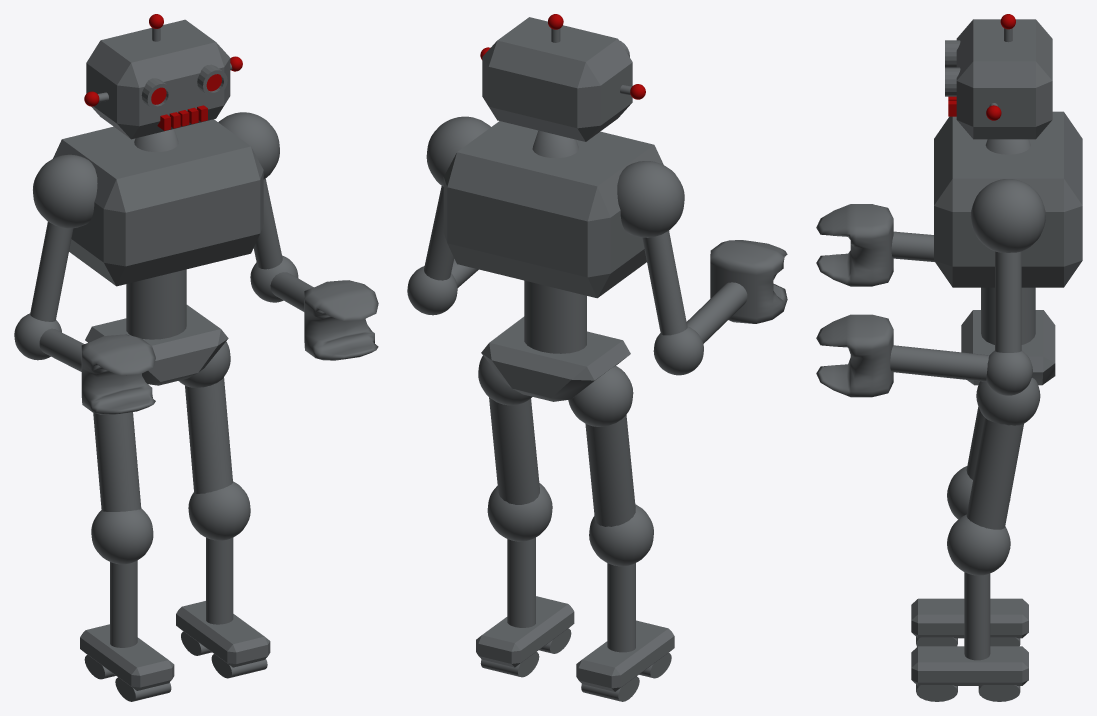
The model's file is Robot.fbx.
The picture shows the model from 3 angles, left to right: view 1: azimuth 30°, elevation 25°; view 2: azimuth 150°, elevation 25°; view 3: azimuth 270°, elevation 25°; orthographic projection. The views are drawn at different scales.
Visible parts, largest first — view 1: pCube7, pCube1, pCube8, pCylinder6, pCube10, pSphere4, pSphere5, pCylinder7, pCube9, pCylinder3, pCylinder5, pSphere3 (+6 smaller); view 2: pCube7, pCube1, pCylinder6, pCube10, pCube9, pSphere4, pSphere5, pCylinder7, pCube8, pCylinder3, pCylinder5, pSphere2 (+5 smaller); view 3: pCube7, pCube1, pCube8, pCube10, pCylinder6, pSphere4, pCylinder4, pSphere5, pCylinder3, pCube9, pCylinder7, pSphere2 (+6 smaller).
Part boxes in pixels (<box>): pCube7: <box>53,119,263,286</box>; pCube1: <box>86,19,230,139</box>; pCube8: <box>81,280,378,414</box>; pCylinder6: <box>93,377,232,511</box>; pCube10: <box>80,601,270,690</box>; pSphere4: <box>33,112,279,228</box>; pSphere5: <box>91,481,250,564</box>; pCylinder7: <box>110,537,233,647</box>; pCube9: <box>85,305,228,385</box>; pCylinder3: <box>30,178,282,321</box>; pCylinder5: <box>126,269,186,339</box>; pSphere3: <box>14,255,298,360</box>; pCube7: <box>443,121,663,298</box>; pCube1: <box>482,17,632,141</box>; pCylinder6: <box>489,397,635,526</box>; pCube10: <box>476,596,674,691</box>; pCube9: <box>481,316,630,401</box>; pSphere4: <box>426,116,684,237</box>; pSphere5: <box>487,483,653,566</box>; pCylinder7: <box>507,537,635,652</box>; pCube8: <box>710,240,787,323</box>; pCylinder3: <box>424,186,687,335</box>; pCylinder5: <box>524,280,586,353</box>; pSphere2: <box>478,356,633,426</box>; pCube7: <box>934,111,1082,287</box>; pCube1: <box>956,19,1052,139</box>; pCube8: <box>816,204,893,397</box>; pCube10: <box>911,598,1028,685</box>; pCylinder6: <box>966,406,1023,529</box>; pSphere4: <box>970,179,1045,252</box>; pCylinder4: <box>890,231,989,381</box>; pSphere5: <box>947,466,1010,575</box>; pCylinder3: <box>995,251,1021,352</box>; pCube9: <box>961,310,1055,385</box>; pCylinder7: <box>964,572,990,660</box>; pSphere2: <box>976,378,1040,425</box>.
Bounding box in the file's own units: 2.82 × 6.14 × 2.27.
